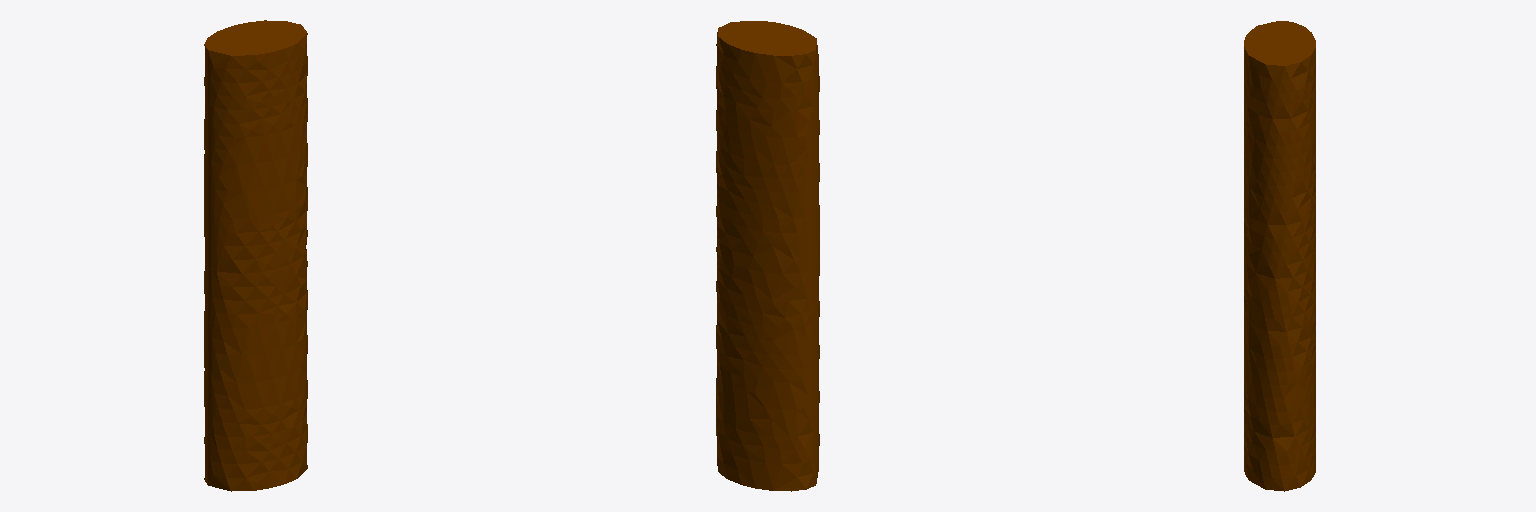
URDF robot description (Small_Long_Oval_Brown):
<?xml version="1.0"?>
<robot name="Small_Long_Oval_Brown">
    <link name="Small_Long_Oval_Brown">
        <visual>
            <geometry>
                <mesh filename="../mesh/factory_insertion/Small_Long_Oval_Brown.obj" scale="0.001 0.001 0.001"/>
            </geometry>
            <material name="Brown">
              <color rgba="0.46 0.25 0 0"/>
            </material>
        </visual>
        <collision>
            <geometry>
                <mesh filename="../mesh/factory_insertion/Small_Long_Oval_Brown.obj" scale="0.001 0.001 0.001"/>
            </geometry>
            <sdf resolution="512"/>
        </collision>
    </link>
</robot>

--- Facts derived from the render (not from the file) ---
3 views of the same robot in one strip: view 1: azimuth 30°, elevation 25°; view 2: azimuth 150°, elevation 25°; view 3: azimuth 270°, elevation 25° (orthographic).
Model Small_Long_Oval_Brown with 1 links and 0 joints (none), rooted at Small_Long_Oval_Brown, posed every joint at zero.
Links seen in each view (by area): view 1: Small_Long_Oval_Brown; view 2: Small_Long_Oval_Brown; view 3: Small_Long_Oval_Brown.
Boxes of the visible links, x1,y1,x2,y2 form: Small_Long_Oval_Brown: [204, 20, 307, 491]; Small_Long_Oval_Brown: [716, 21, 819, 491]; Small_Long_Oval_Brown: [1244, 21, 1315, 491].
Size in the robot's own frame: 0.0347 by 0.0232 by 0.15 metres.
1 mesh visuals loaded from 1 distinct referenced files (1 OBJ).
